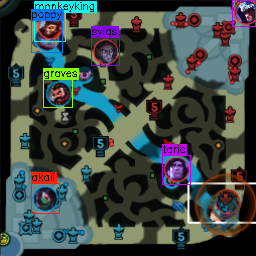akali: (33, 186, 56, 211)
graves: (45, 81, 71, 106)
kalista: (214, 187, 240, 213)
missfortune: (206, 199, 230, 224)
monkeyking: (37, 14, 64, 38)
poppy: (34, 27, 58, 50)
sylas: (91, 37, 118, 64)
talon: (232, 1, 256, 25)
taric: (164, 156, 189, 182)
